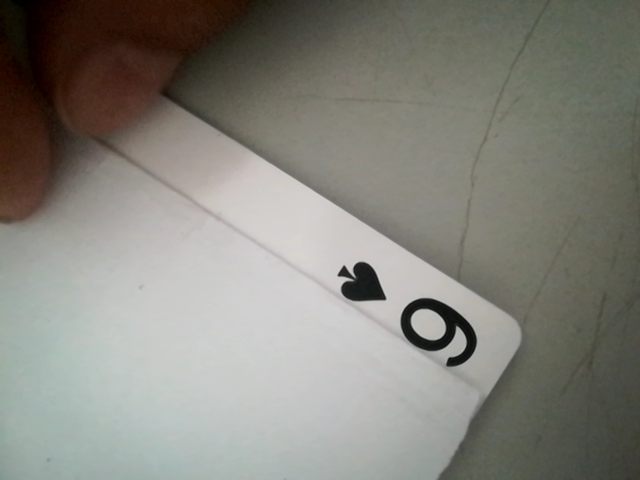ht 6: (321, 258, 493, 381)
